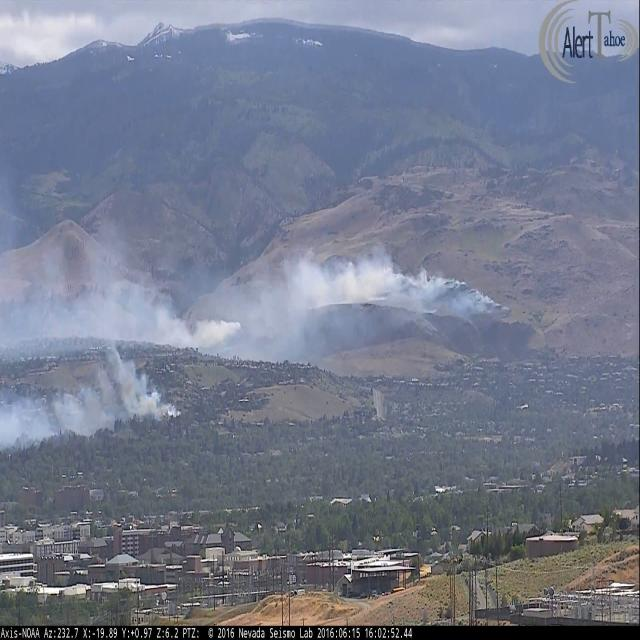smoke: (243, 242, 510, 361), (0, 239, 241, 354), (0, 357, 179, 462)
